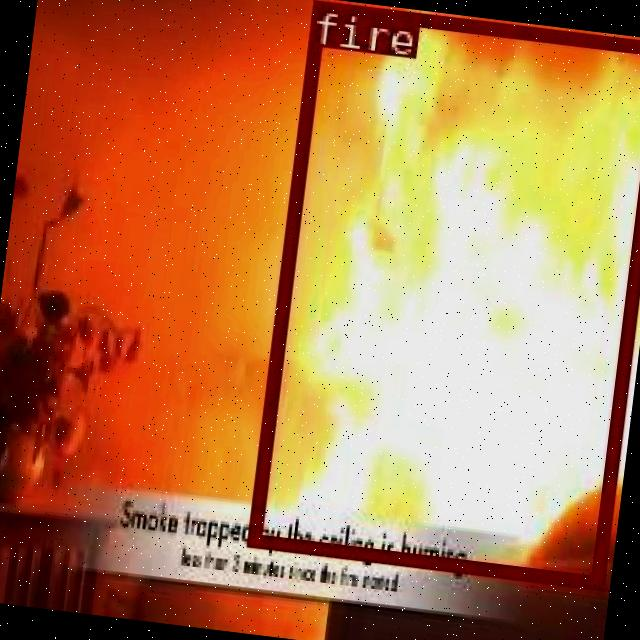fire: (244, 0, 640, 587)
